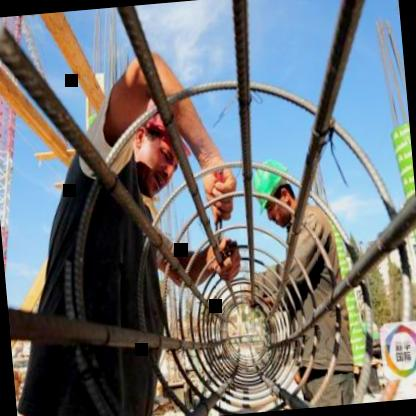helmet: (127, 94, 195, 196), (250, 154, 302, 228)
